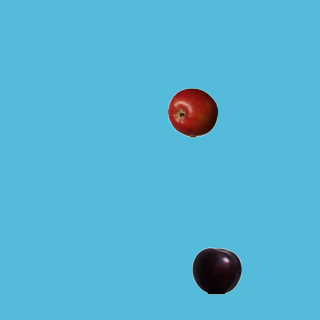Apple Braeburn: (167, 87, 217, 137)
Cherry Wax Black: (191, 245, 241, 295)
